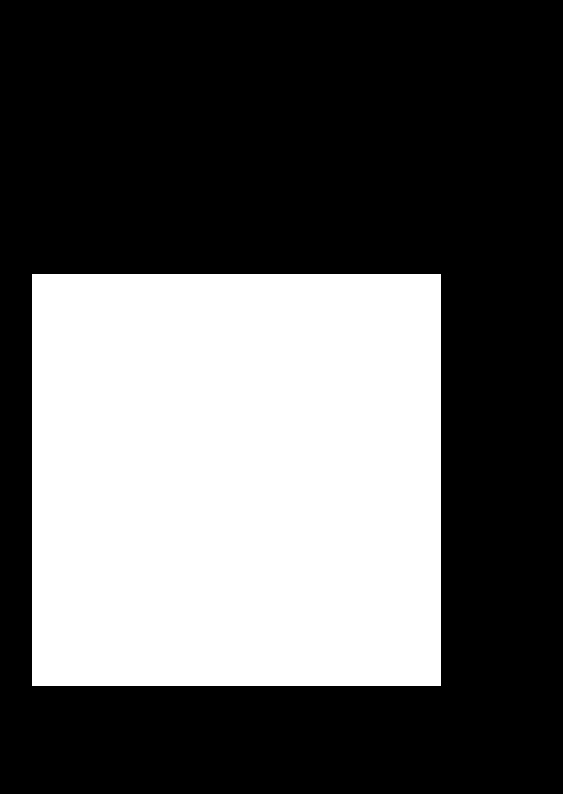table: (32, 274, 440, 685)
